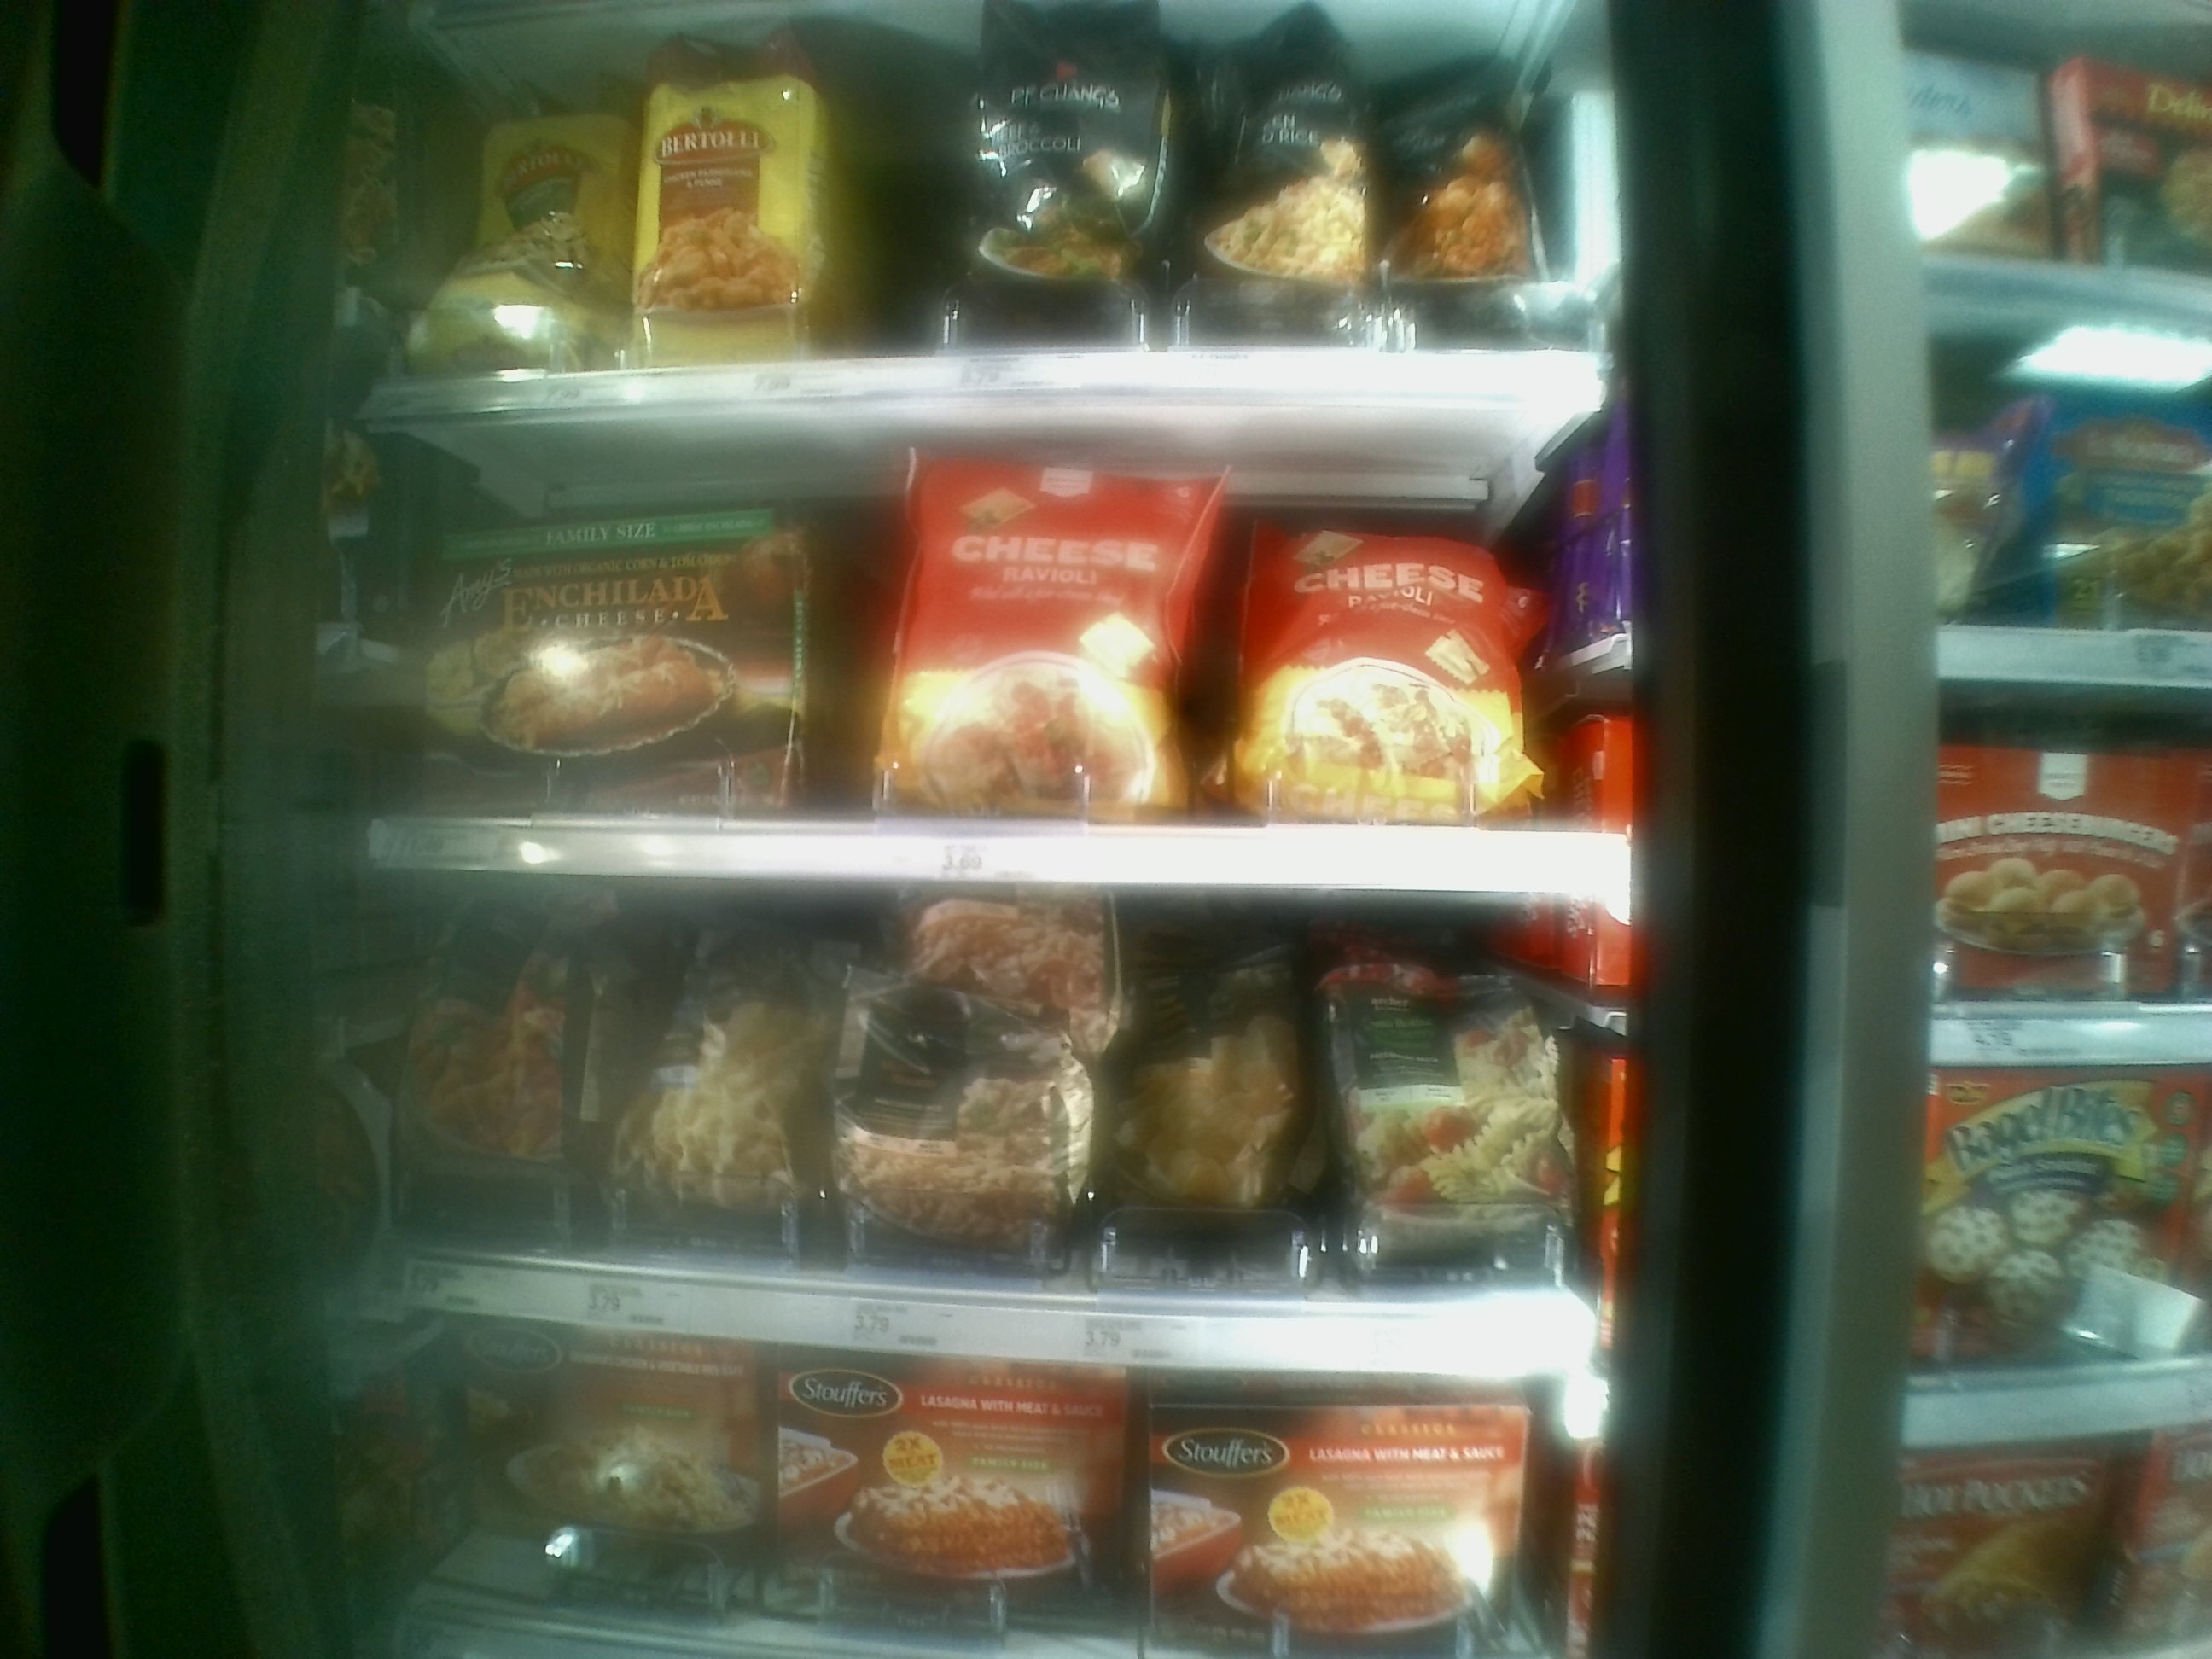shelf: (350, 446, 1585, 901), (383, 887, 1470, 1387), (383, 94, 1602, 406)
